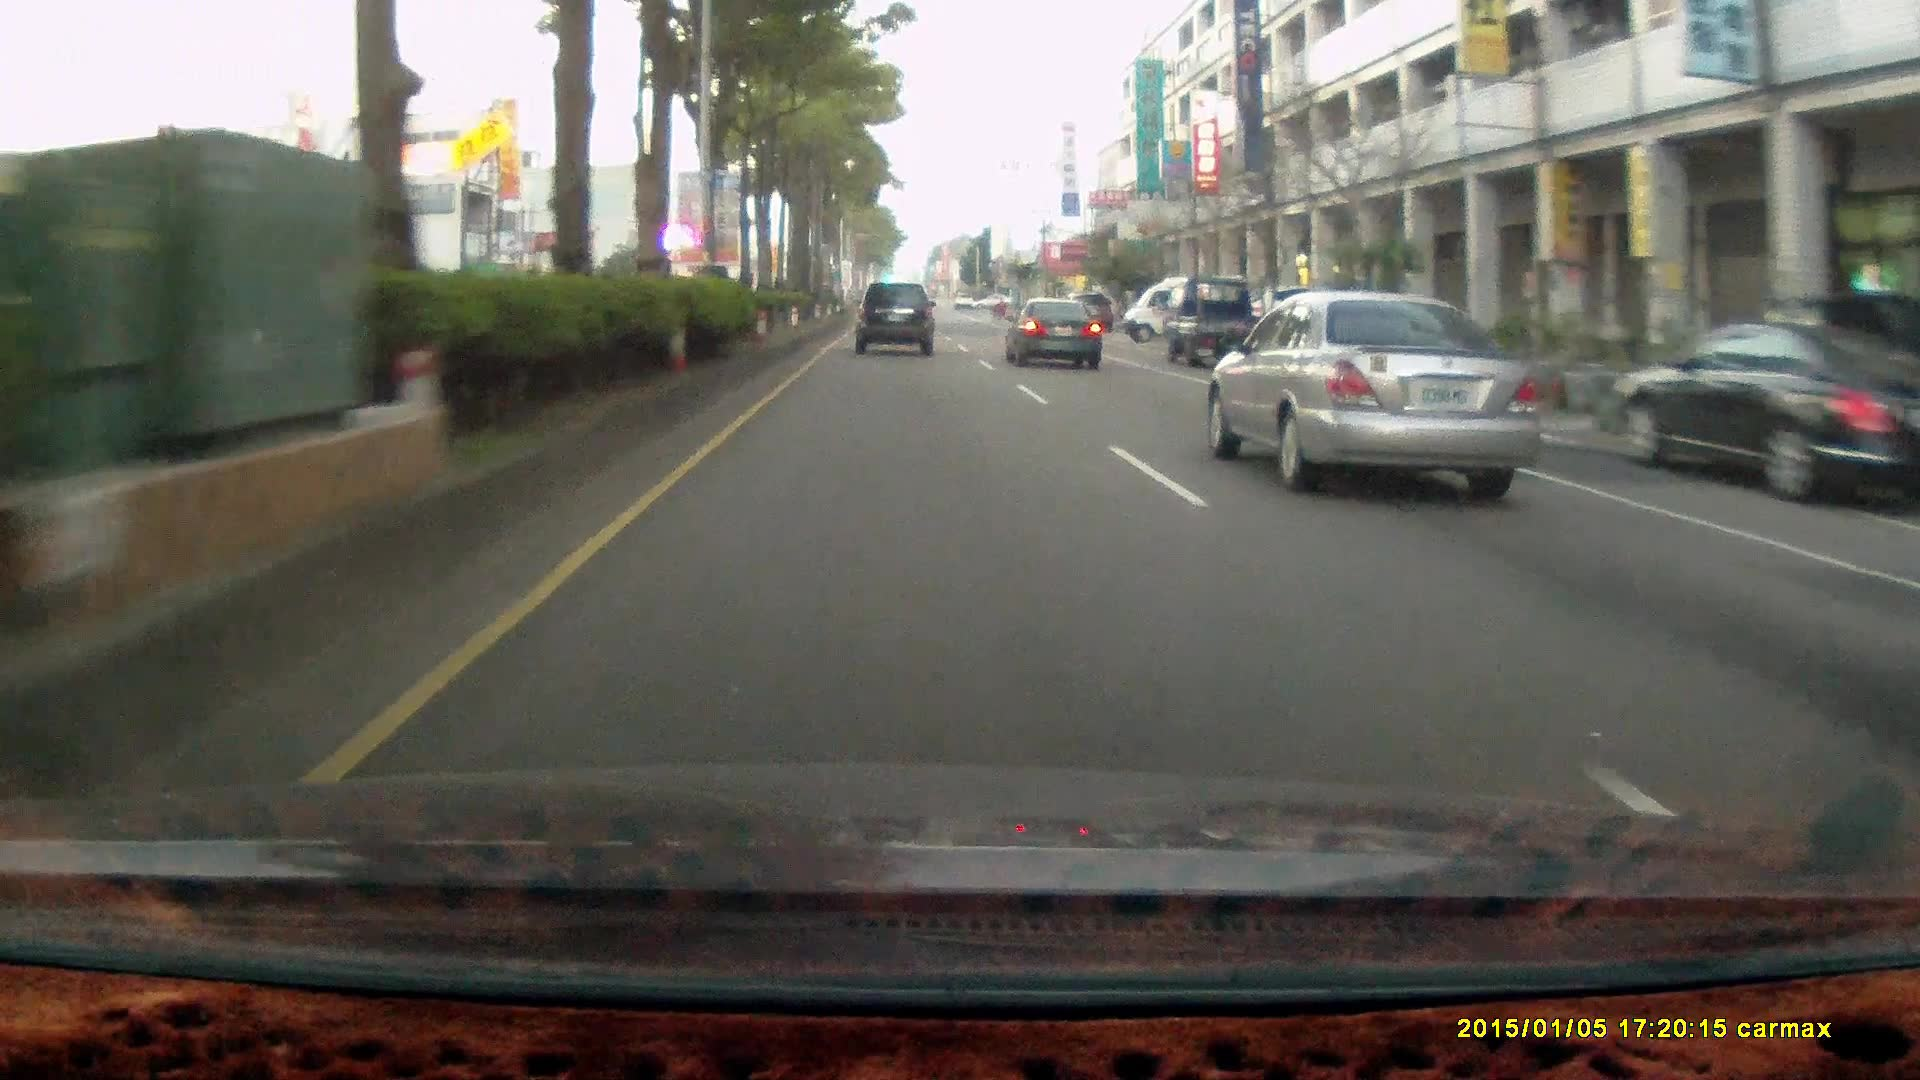vehicle: (1201, 287, 1535, 487), (1607, 314, 1920, 508), (1284, 303, 1440, 396), (1174, 277, 1280, 380), (1162, 276, 1269, 367), (1125, 274, 1250, 349), (1120, 276, 1246, 342), (1001, 298, 1105, 375), (1002, 295, 1098, 367), (855, 282, 938, 357), (855, 280, 936, 352)
